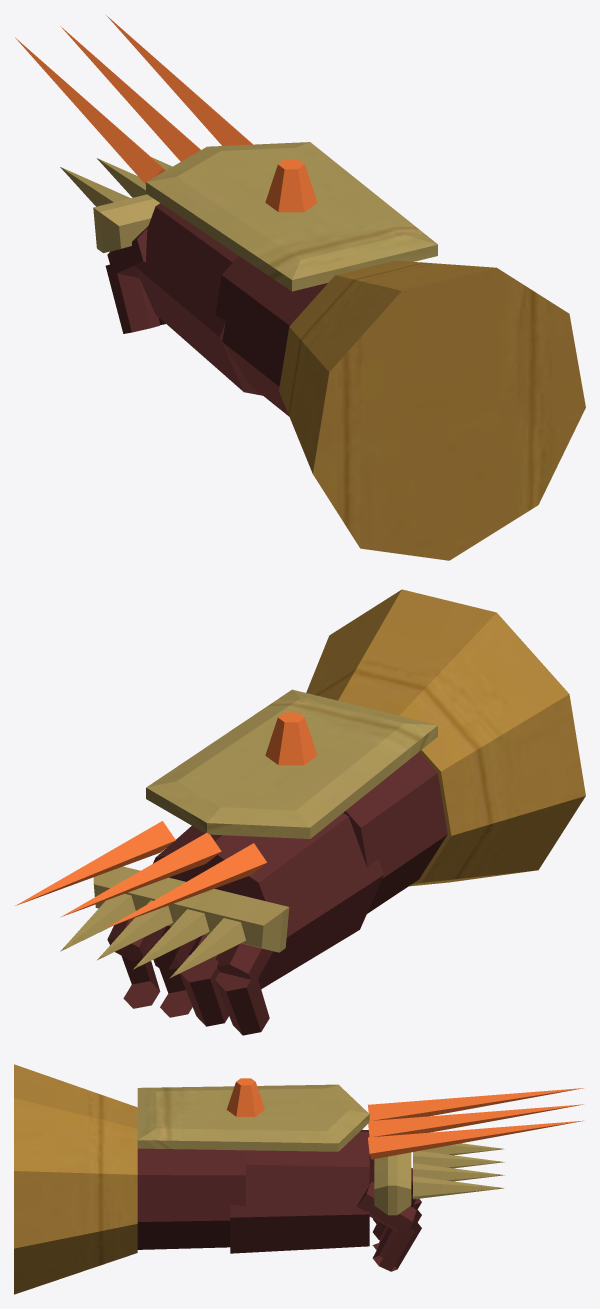
File: wpn_gauntlet_legend.glb
3 renders of one model, top to bottom at view 1: azimuth 30°, elevation 25°; view 2: azimuth 150°, elevation 25°; view 3: azimuth 270°, elevation 25°, orthographic. The views are drawn at different scales.
Parts seen in each view (by area): view 1: wpn_gauntlet_legend; view 2: wpn_gauntlet_legend; view 3: wpn_gauntlet_legend.
Part boxes in pixels (<box>): wpn_gauntlet_legend: <box>15,15,585,560</box>; wpn_gauntlet_legend: <box>15,589,585,1035</box>; wpn_gauntlet_legend: <box>14,1064,583,1294</box>.
Size of the model in its own units: 0.1497 by 0.1474 by 0.37.
4 materials, 4 textured.
